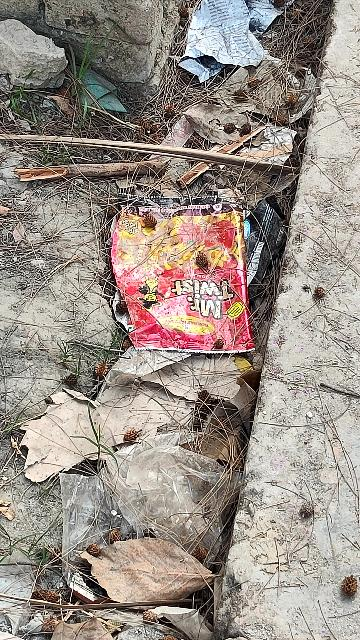packet: (107, 195, 262, 357)
